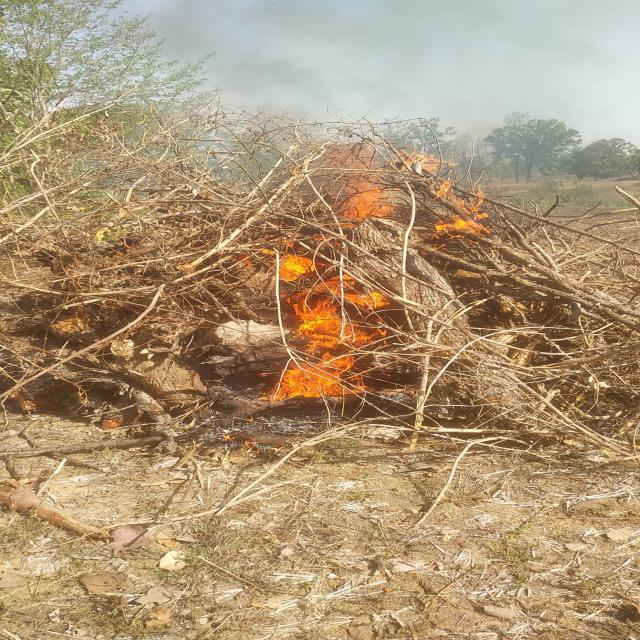firerotation: (260, 141, 498, 402)
